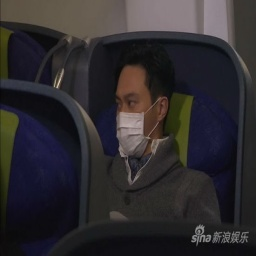correctlyWear: (112, 84, 169, 157)
